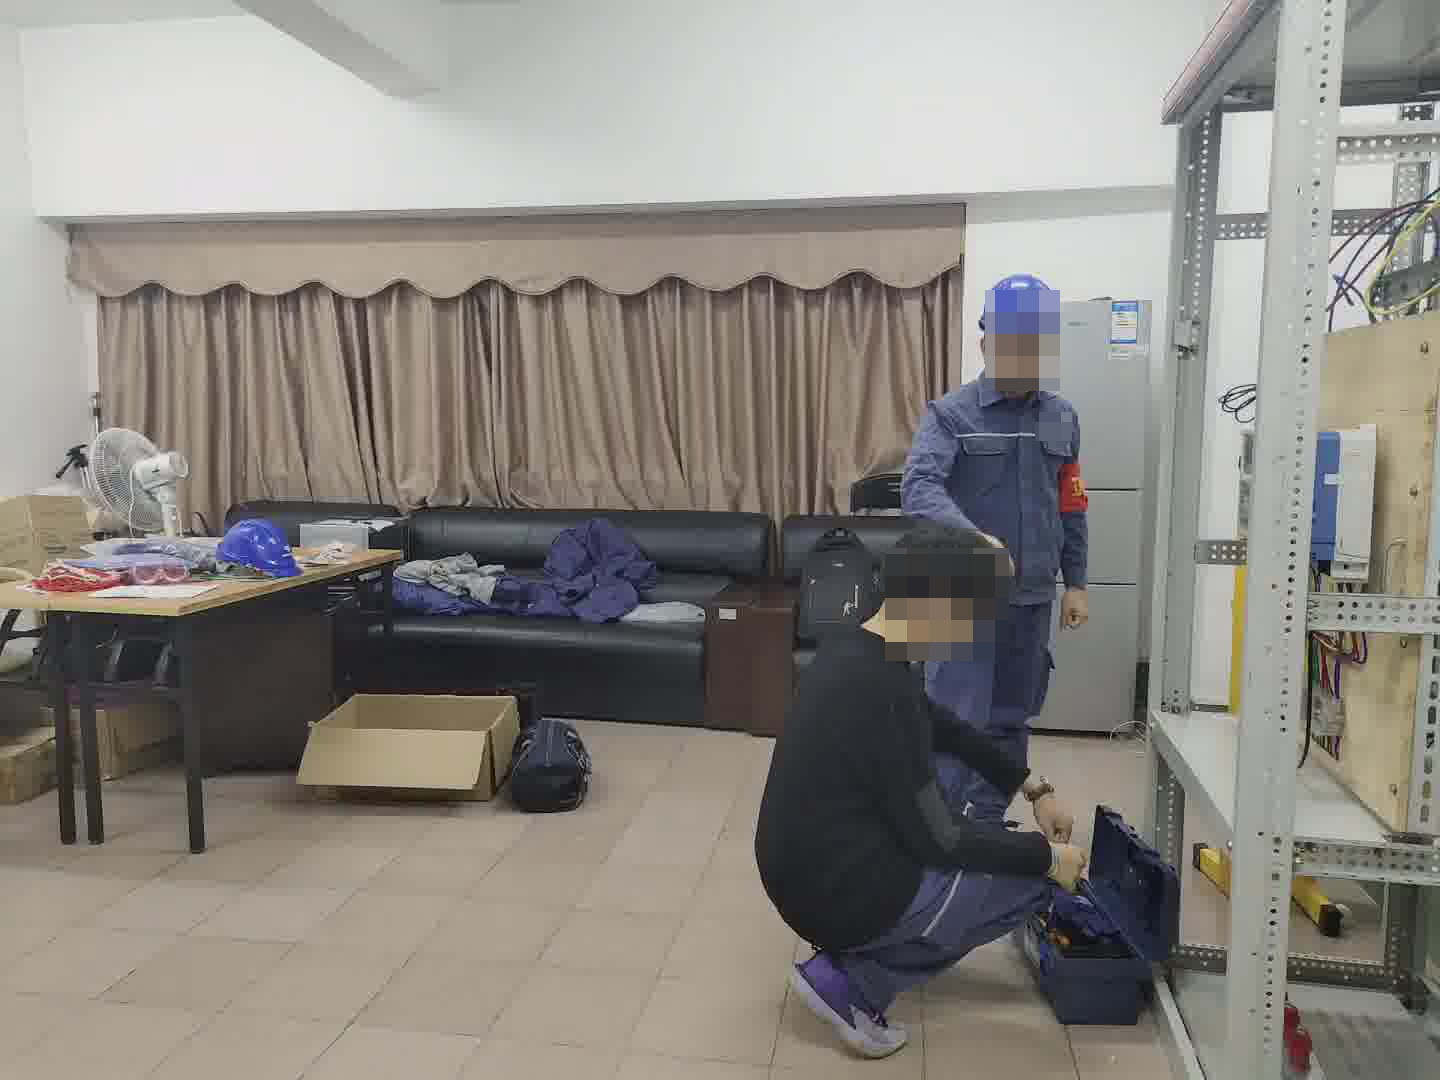badge: (1057, 460, 1089, 517)
downsuit: (848, 858, 1059, 1011), (925, 610, 1053, 788)
halt: (975, 271, 1063, 393)
hand: (1050, 836, 1091, 893), (1037, 790, 1077, 843), (1060, 588, 1092, 634)
noear: (910, 566, 962, 629)
person: (751, 548, 1094, 1058), (897, 270, 1094, 821)
unhalt: (869, 524, 1006, 659)
upcloth: (753, 623, 1050, 857)
upsuit: (902, 377, 1088, 600)
